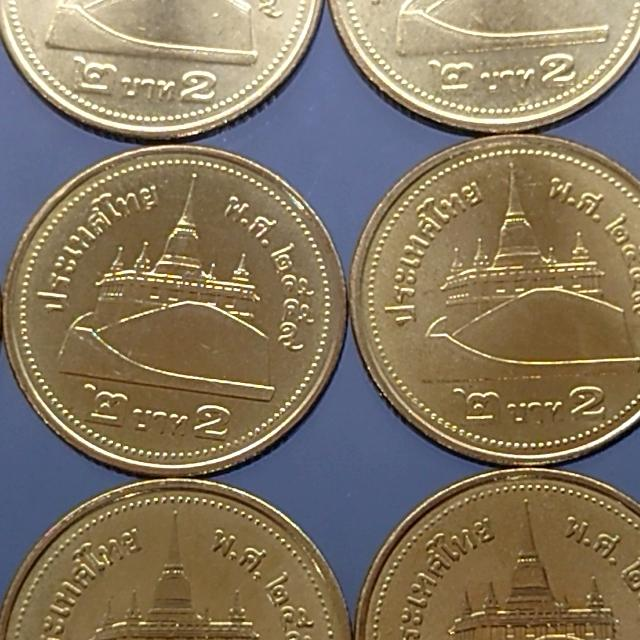2-baht: (5, 137, 355, 480), (353, 131, 640, 478), (0, 475, 358, 640), (356, 466, 640, 640), (0, 0, 334, 138), (323, 0, 640, 111)
